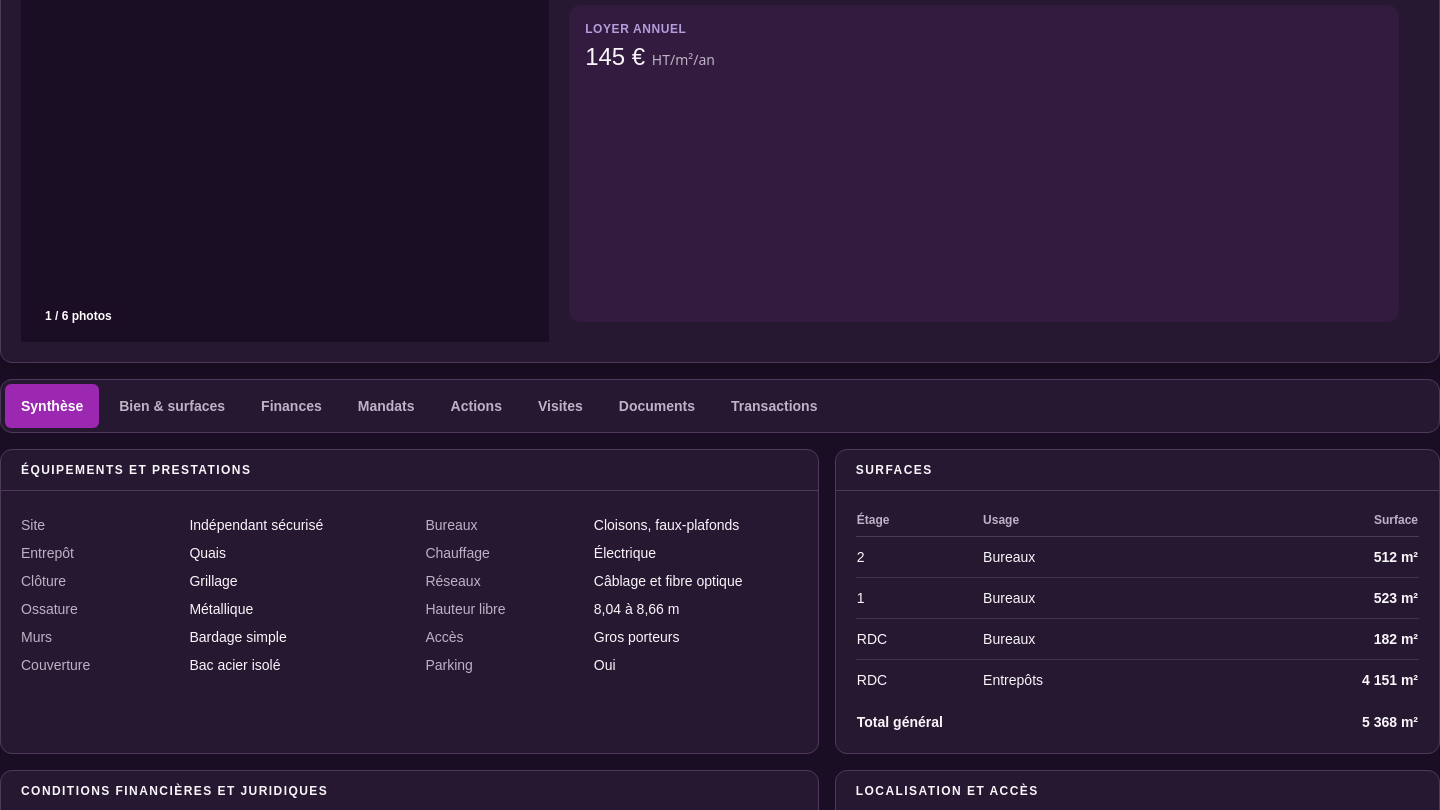
Test: une offre locative masque les conditions de vente
(page scrolled)
Click the button "Transactions".
click(774, 406)  # box top-left (715, 384), bottom-right (833, 428)
(page scrolled)
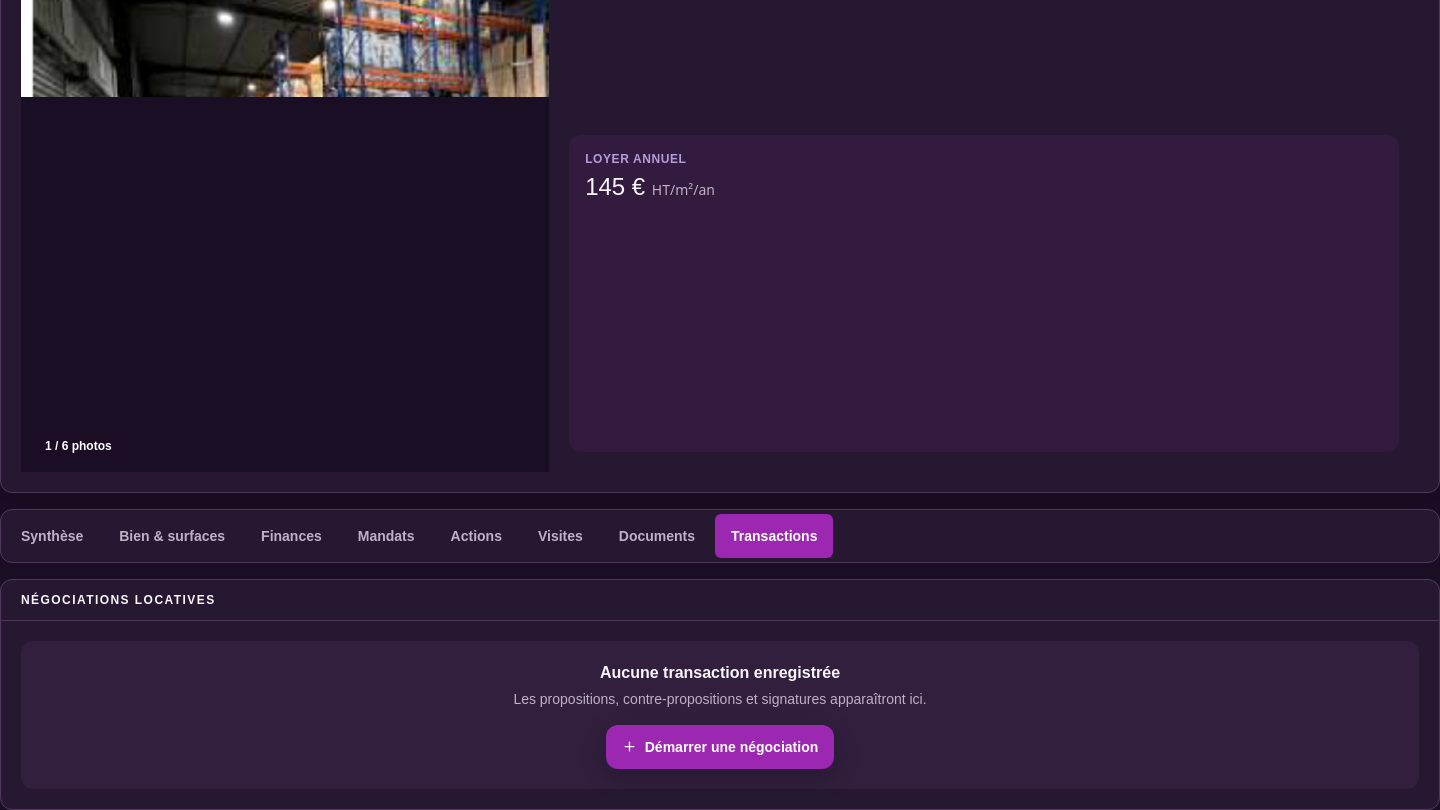
Check: the heading "Négociations locatives" is shown, box top-left (21, 593), bottom-right (216, 607)
